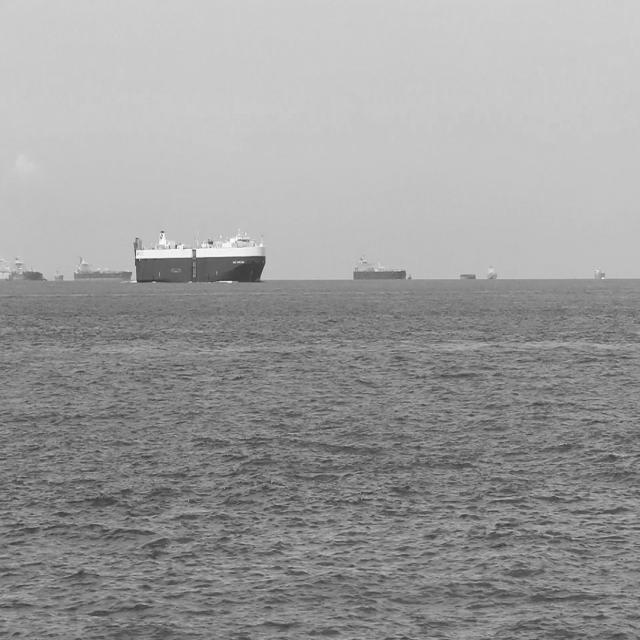ship: (132, 233, 265, 283), (349, 252, 406, 282), (71, 256, 131, 278), (8, 251, 44, 287), (0, 257, 15, 285), (483, 262, 499, 284), (592, 261, 607, 282), (458, 269, 477, 283), (54, 264, 66, 286), (406, 272, 414, 282)
